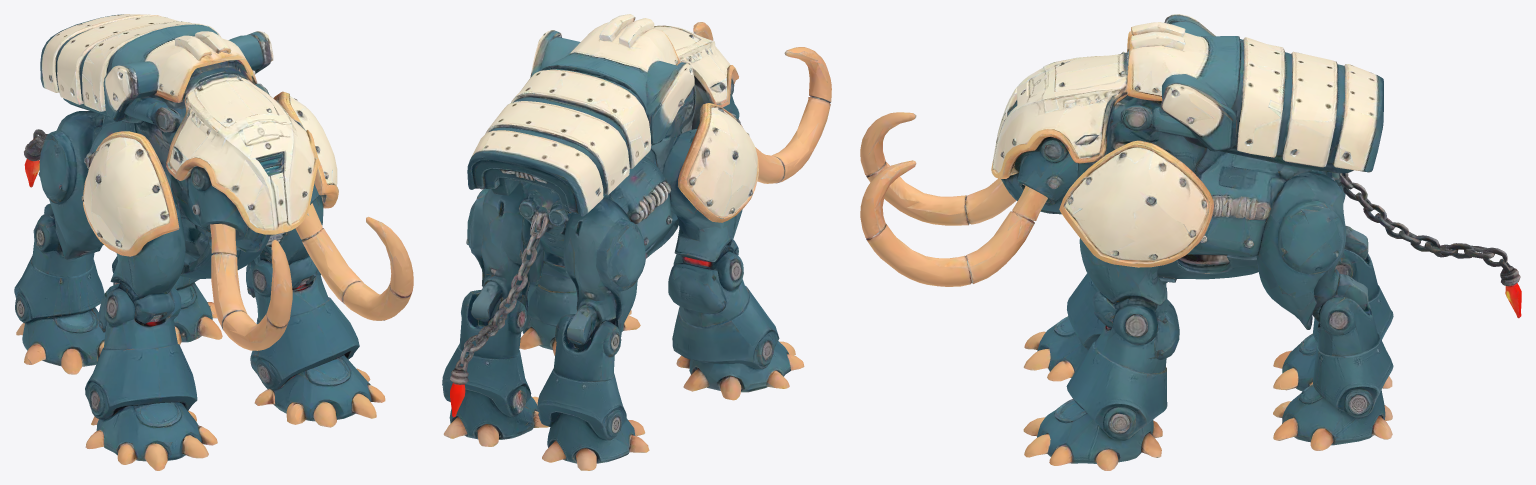
The model's file is mount-glacier-mammoth.glb.
3 renders of one model, left to right at view 1: azimuth 30°, elevation 25°; view 2: azimuth 150°, elevation 25°; view 3: azimuth 270°, elevation 25°, orthographic. The views are drawn at different scales.
Visible parts, largest first — view 1: Mesh_0; view 2: Mesh_0; view 3: Mesh_0.
Boxes of the visible parts, x1,y1,x2,y2 form: Mesh_0: (14, 14, 413, 470); Mesh_0: (442, 14, 831, 470); Mesh_0: (860, 14, 1521, 470).
Size of the model in its own units: 0.9699 by 1.19 by 1.9.
1 material, 1 textured.
